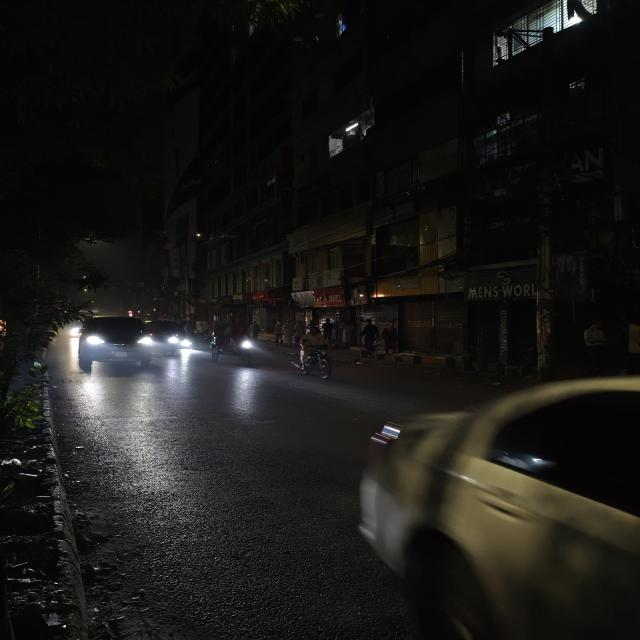car: (69, 308, 157, 384)
cng: (148, 314, 180, 360)
motorcycle: (289, 324, 335, 384)
rickshaw: (205, 321, 263, 368), (180, 320, 202, 350)
